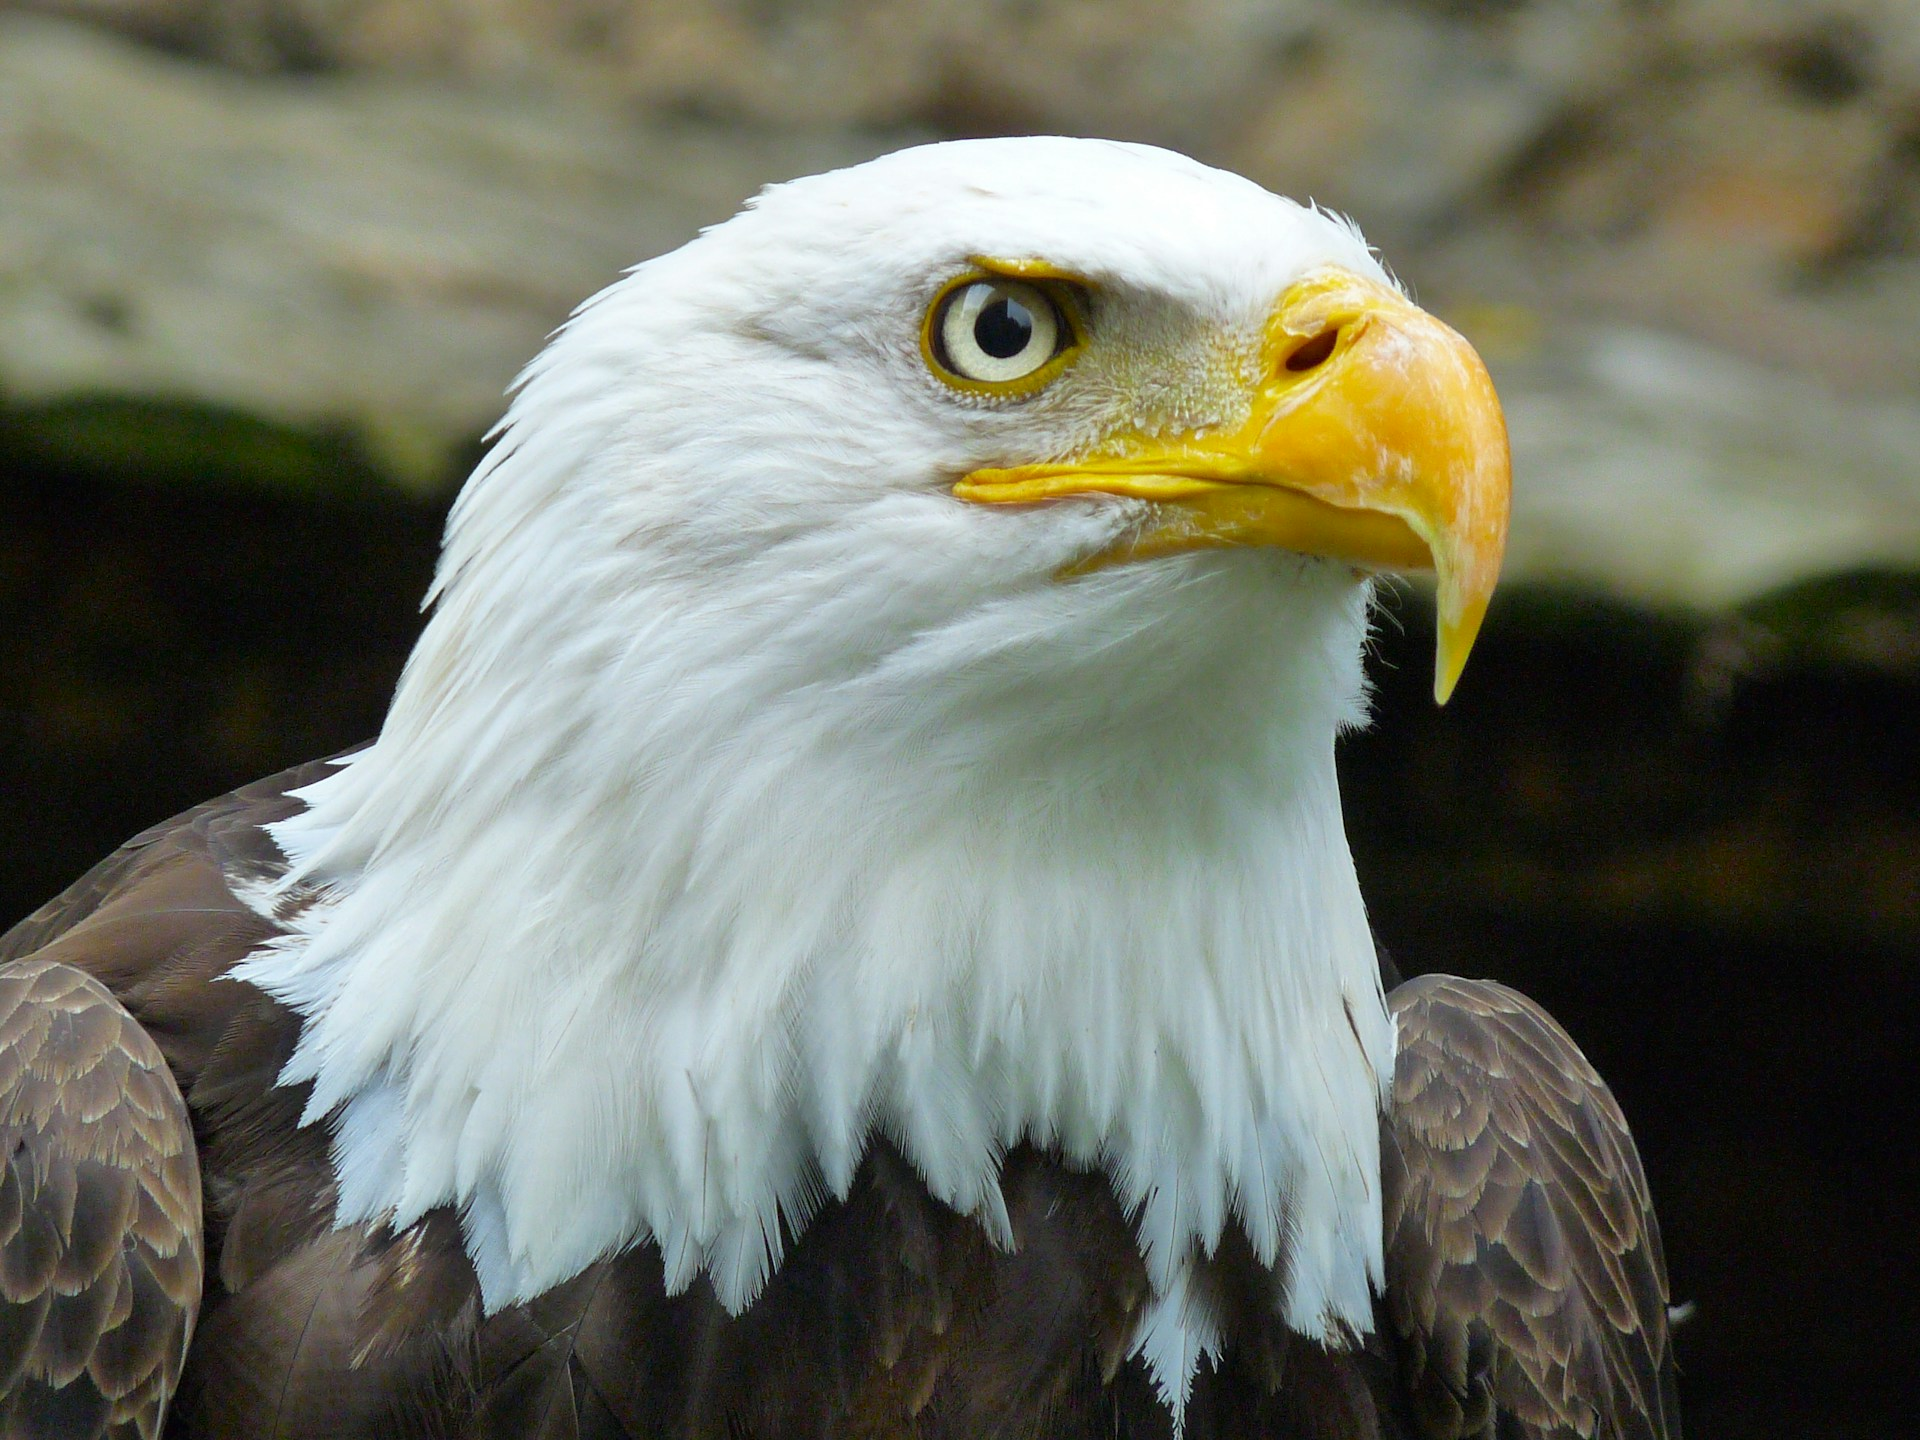eagle: (33, 124, 1701, 1440)
